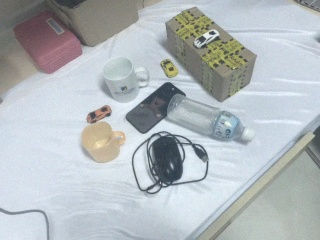bottle: (169, 93, 255, 146)
box: (163, 6, 257, 104), (13, 4, 85, 76), (45, 1, 140, 48)
cup: (102, 55, 150, 104), (80, 120, 127, 163)
mouse: (148, 133, 186, 185)
phone: (125, 80, 185, 134)
toy_car: (192, 28, 220, 49), (86, 104, 112, 123), (160, 59, 179, 78)
